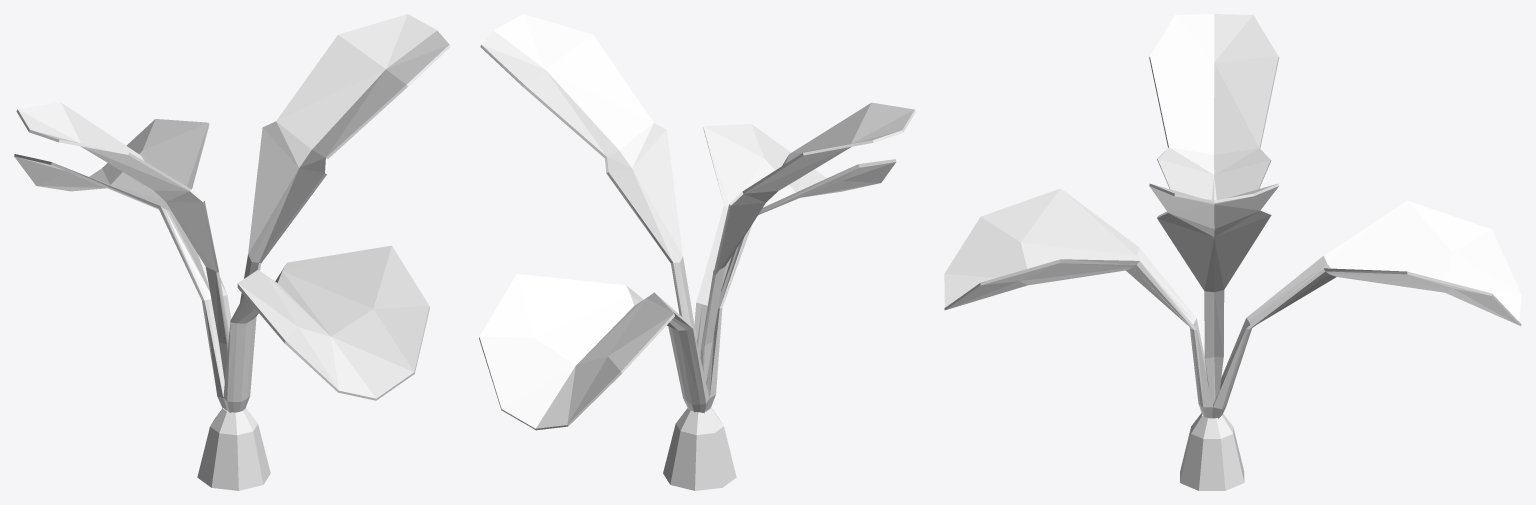
Rendered from Crop_Radish_STAGE_2_01.glb.
3 views of the same model, side by side, from view 1: azimuth 30°, elevation 25°; view 2: azimuth 150°, elevation 25°; view 3: azimuth 270°, elevation 25° (orthographic). The views are drawn at different scales.
Visible parts, largest first — view 1: Crop_Radish_STAGE_2_01; view 2: Crop_Radish_STAGE_2_01; view 3: Crop_Radish_STAGE_2_01.
Boxes of the visible parts, bbox=[...] form: Crop_Radish_STAGE_2_01: bbox=[14, 14, 450, 490]; Crop_Radish_STAGE_2_01: bbox=[479, 14, 915, 490]; Crop_Radish_STAGE_2_01: bbox=[944, 14, 1521, 490].
Size of the model in its own units: 0.2627 by 0.2438 by 0.3416.
1 material, 1 textured.
